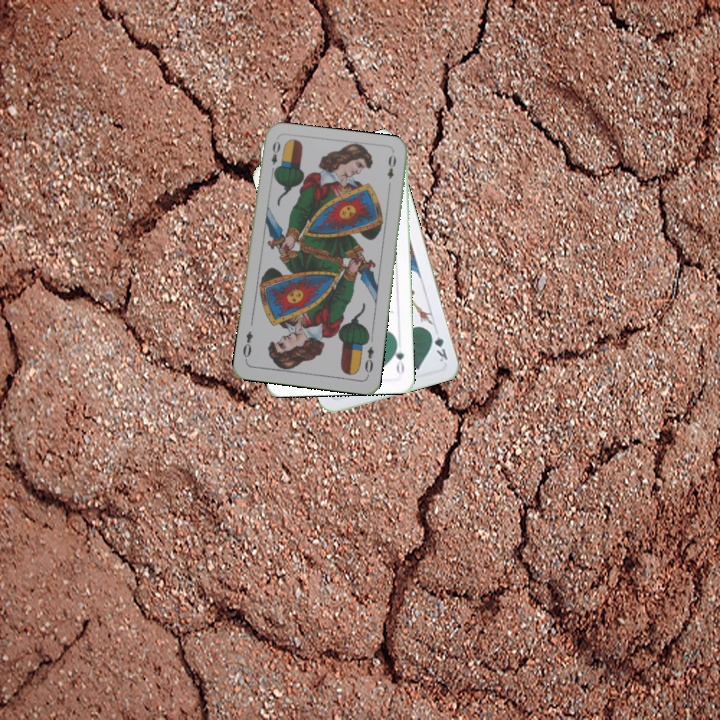EO: (267, 137, 283, 177), (361, 342, 377, 379)
GK: (426, 327, 450, 364)
GO: (389, 337, 407, 377)
